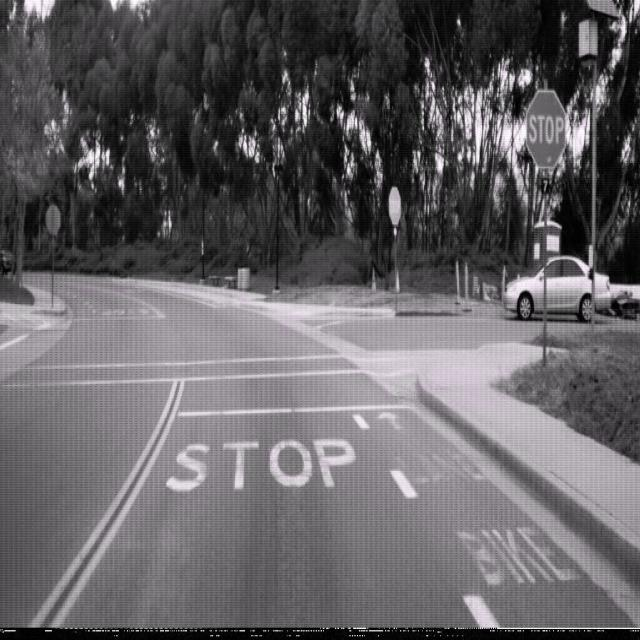stop_sign: (526, 87, 566, 169), (388, 184, 402, 224)
